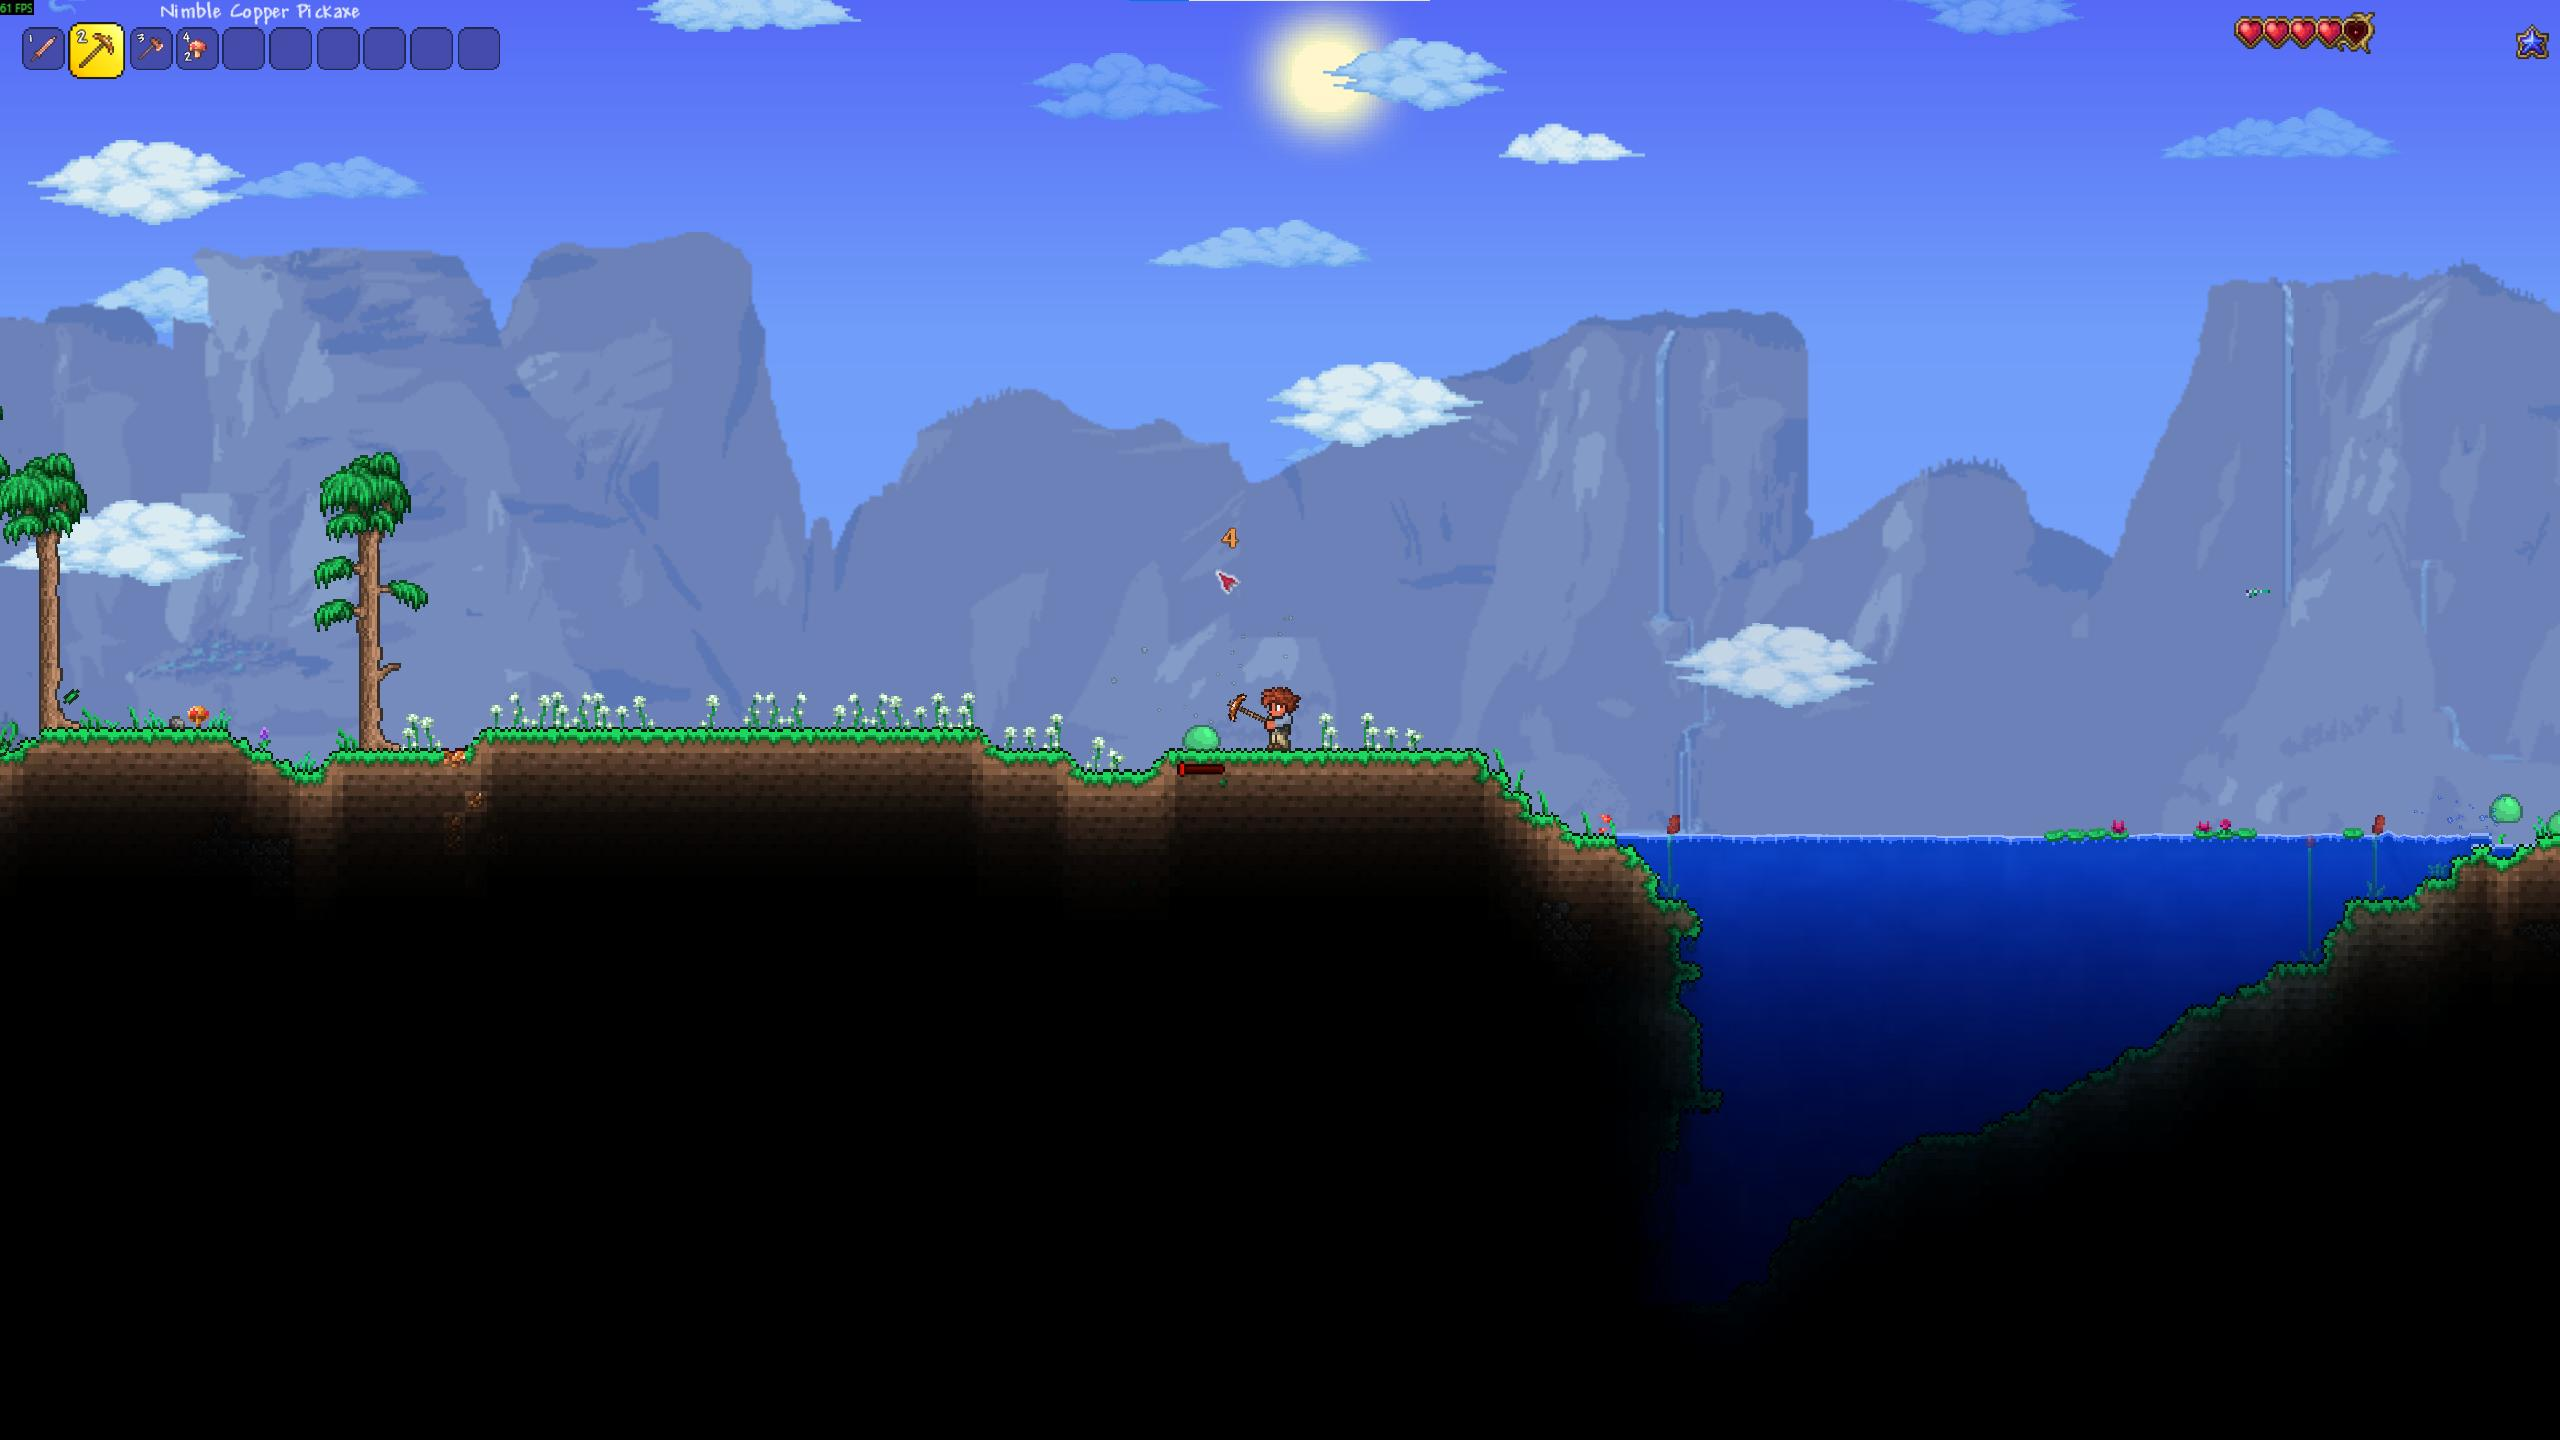Green Slime: (2484, 788, 2527, 830), (1182, 719, 1222, 761), (2546, 809, 2560, 839)
